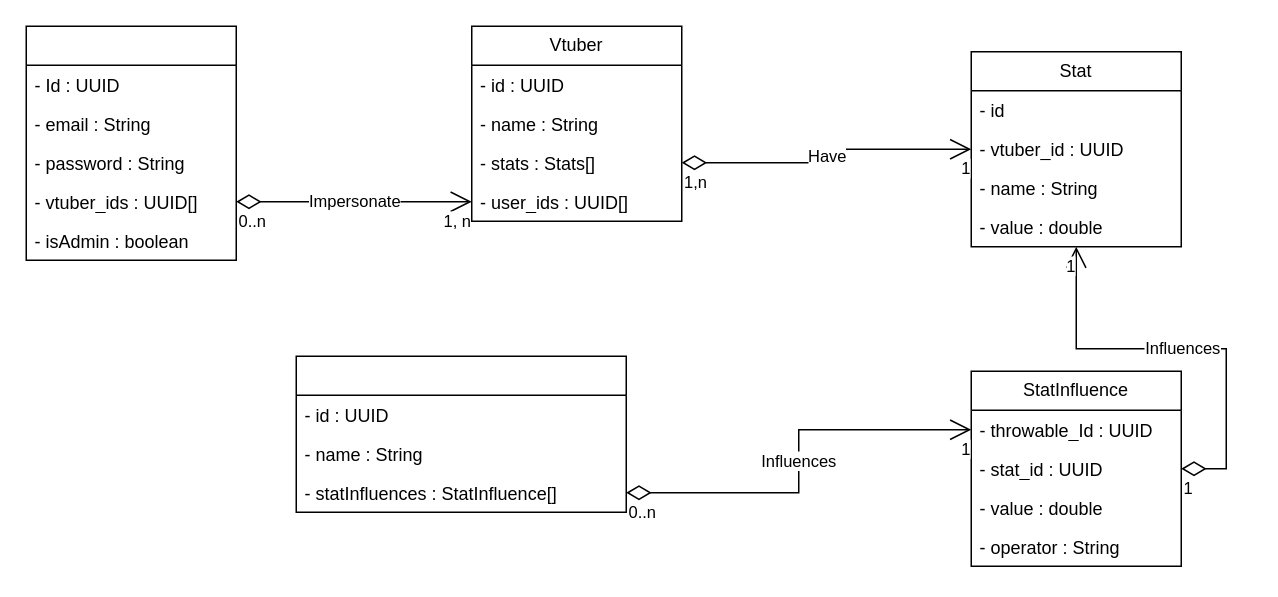
Some shapes in this 1278 by 597 pixel diagram are drawn without their labels. The shapes that lost their labels are listed below. From the top down, each one's box as (x1, y1, x2, y2) in pixels, then its label:
(25, 25, 236, 260): User
(295, 355, 626, 512): Triggers
